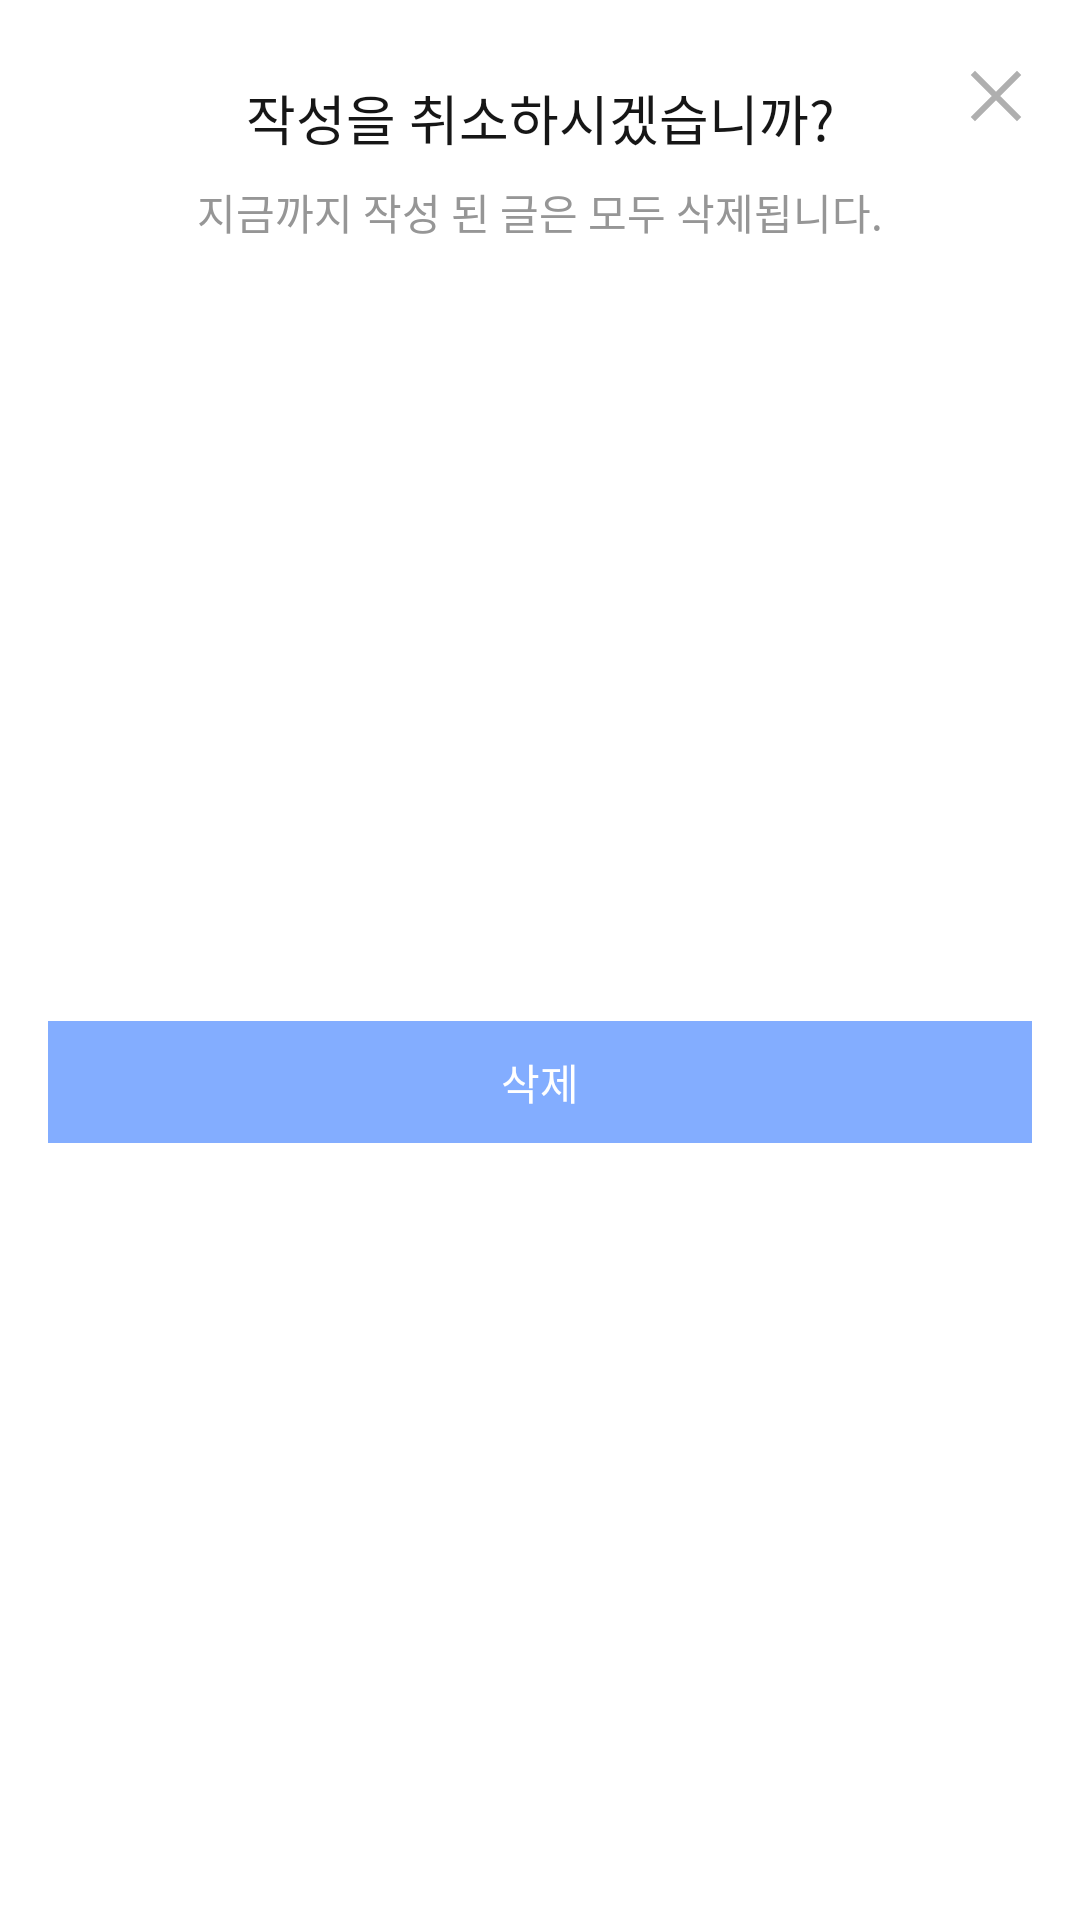

Icon bounding boxes for this 1080 x 1920 phone screenshot, format (x1, y1, x2, y2):
close: (971, 71, 1021, 121)
